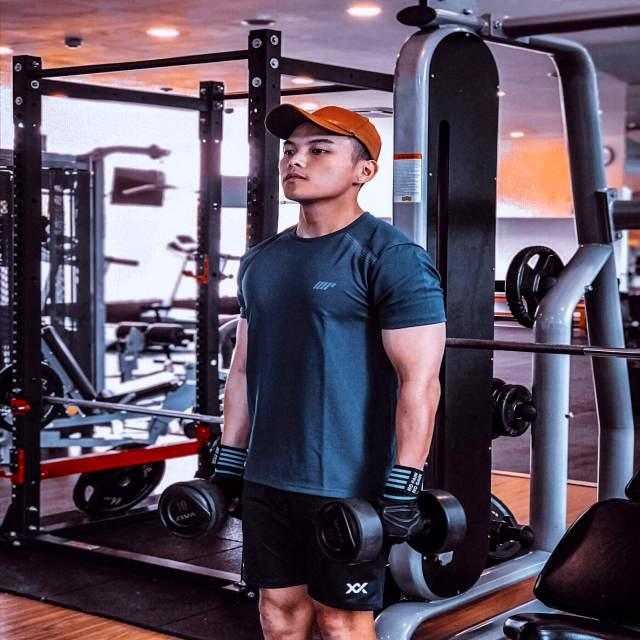no_hard_hat: (265, 104, 381, 162)
person: (212, 104, 445, 640)
